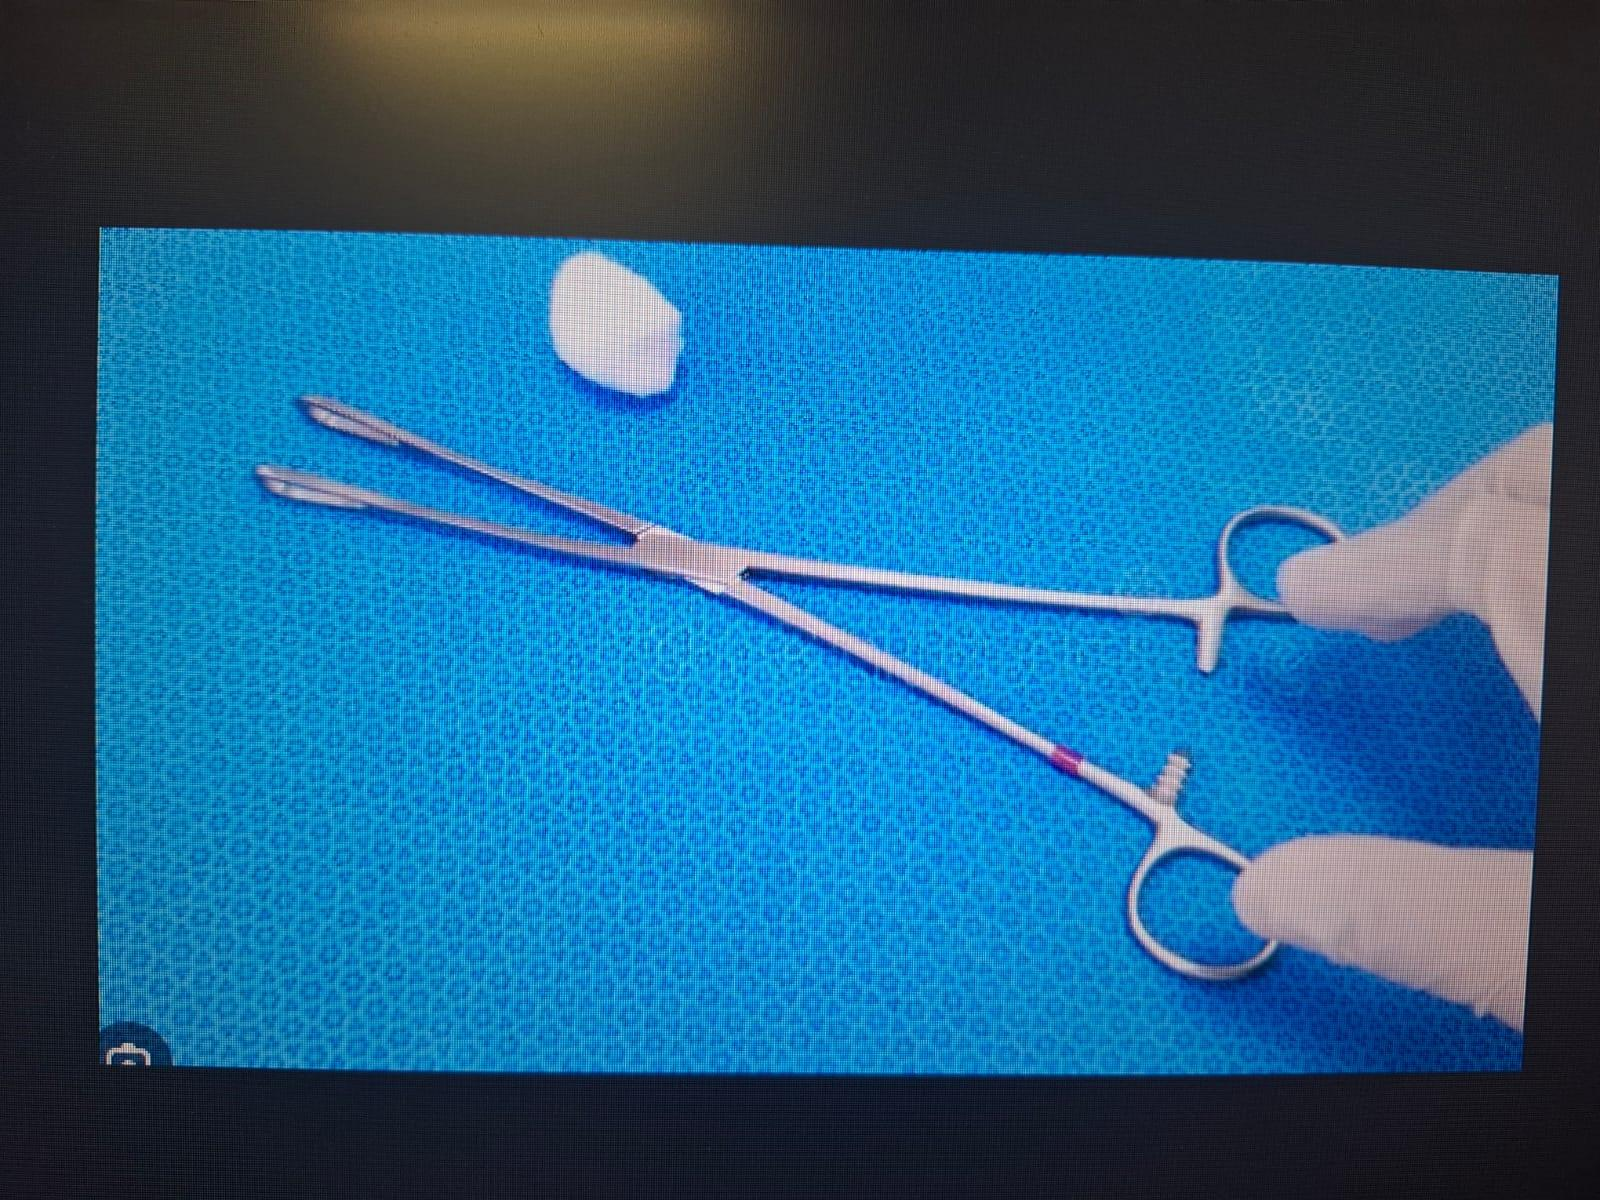Sponge Holding Forceps: (220, 376, 1360, 998)
